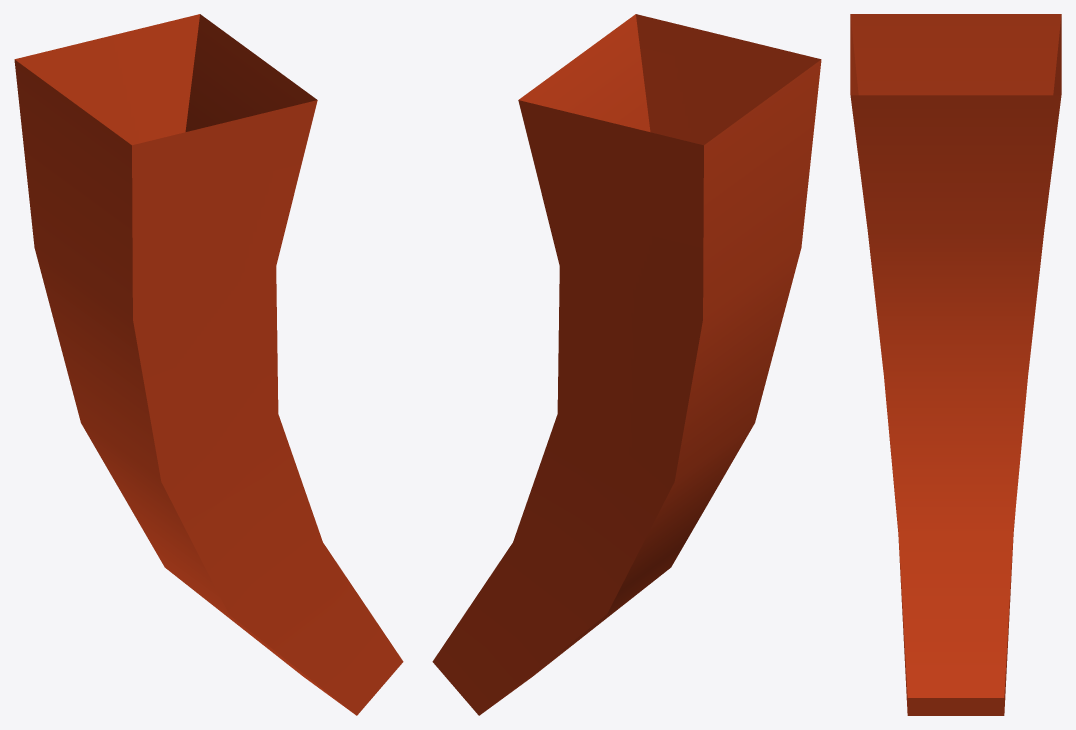
Rendered from SMG4_Trigger.fbx.
The picture shows the model from 3 angles, left to right: view 1: azimuth 30°, elevation 25°; view 2: azimuth 150°, elevation 25°; view 3: azimuth 270°, elevation 25°; orthographic projection. The views are drawn at different scales.
Parts seen in each view (by area): view 1: SMG4_Trigger; view 2: SMG4_Trigger; view 3: SMG4_Trigger.
Part boxes in pixels (bbox=[...]): SMG4_Trigger: bbox=[14, 14, 403, 715]; SMG4_Trigger: bbox=[432, 14, 821, 715]; SMG4_Trigger: bbox=[850, 14, 1061, 715].
Bounding box in the file's own units: 1.88 × 3.89 × 1.26.
